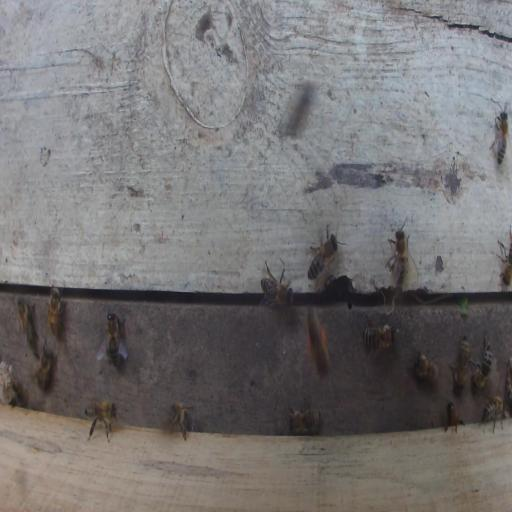bee: (80, 395, 117, 446), (306, 303, 330, 380), (305, 230, 338, 278), (101, 312, 127, 372), (447, 333, 470, 397), (387, 222, 409, 286), (259, 272, 293, 311), (16, 297, 40, 351), (287, 400, 322, 437), (362, 321, 397, 357), (489, 110, 511, 166), (471, 342, 493, 397), (168, 401, 196, 442), (480, 394, 506, 435), (412, 348, 441, 384), (47, 284, 64, 343), (34, 349, 55, 392), (443, 401, 467, 435), (498, 232, 512, 288)
